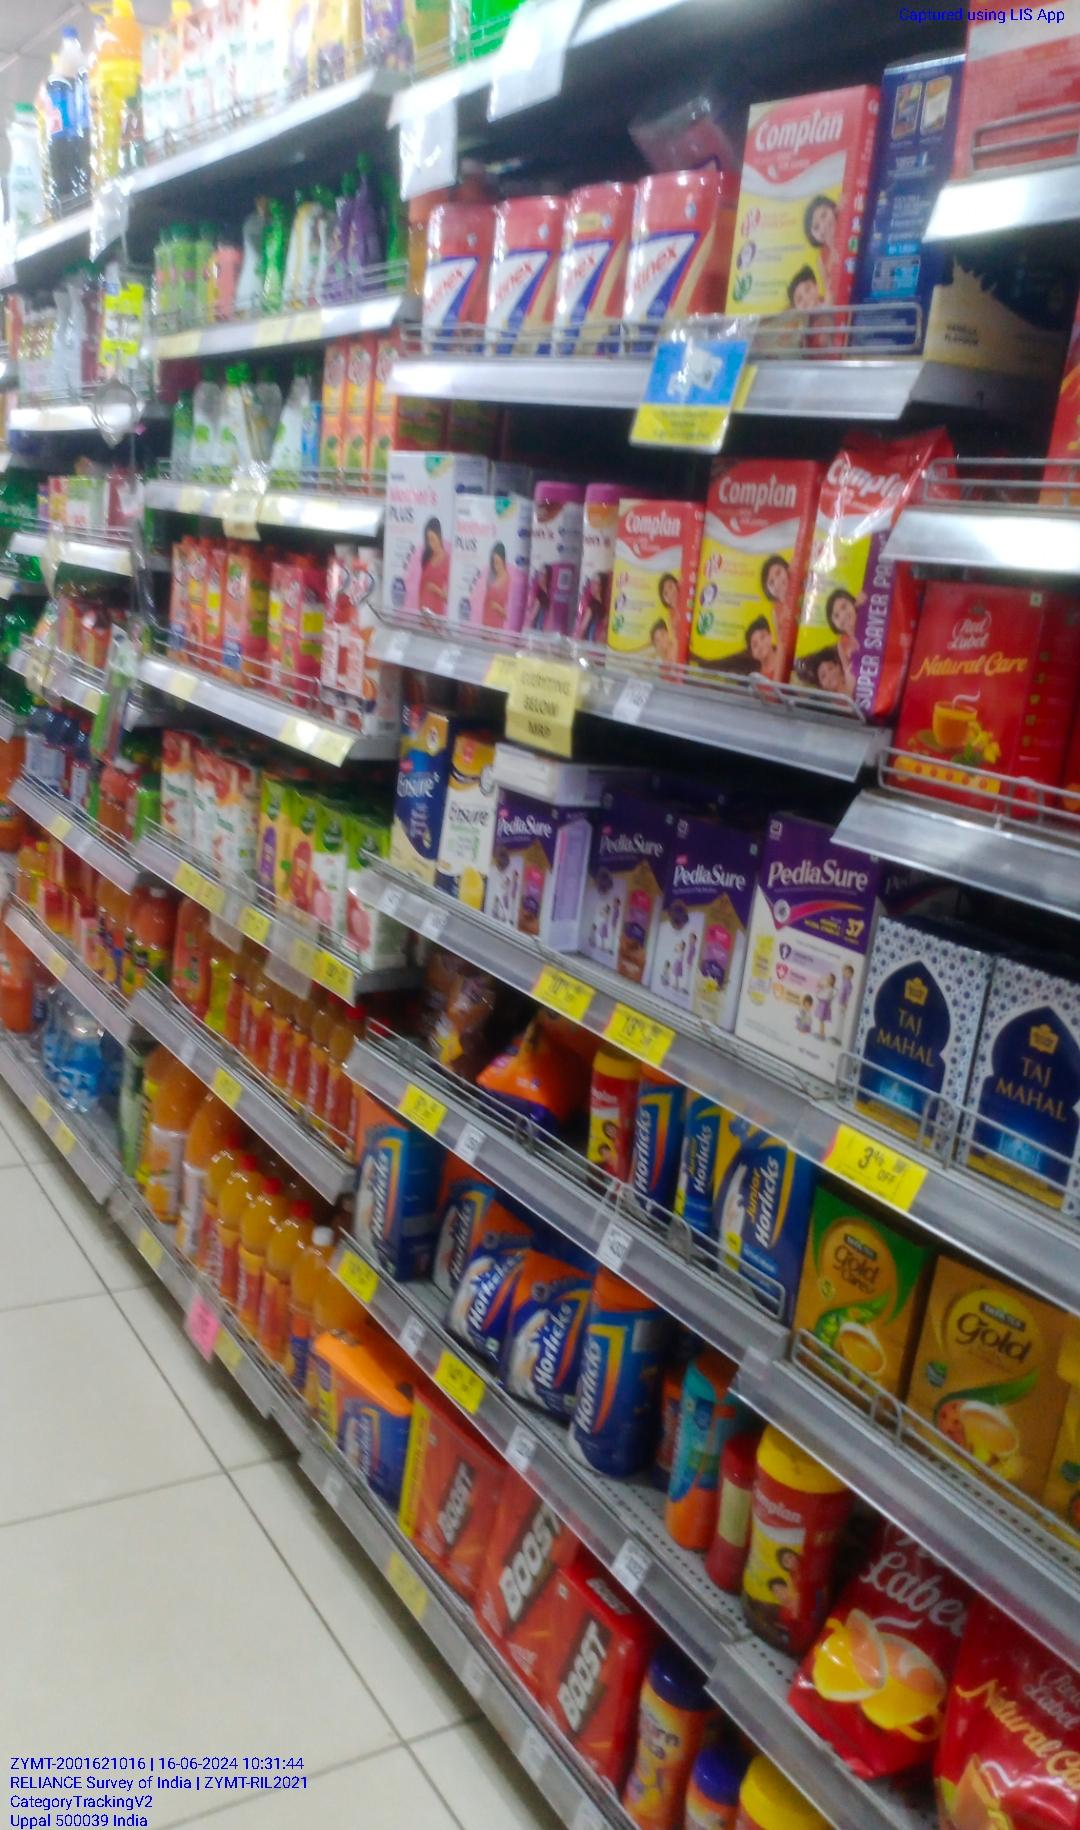PROTINEX_CHOCOLATE_400_G_JAR: (427, 200, 483, 356)
PROTINEX_VANILLA_400_G_JAR: (630, 170, 717, 335), (562, 177, 622, 361), (492, 194, 554, 355)
